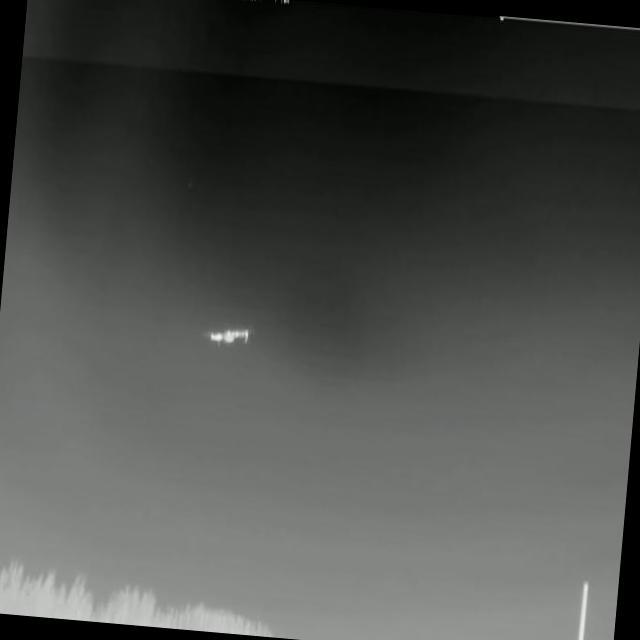DRONE: (195, 314, 262, 358)
